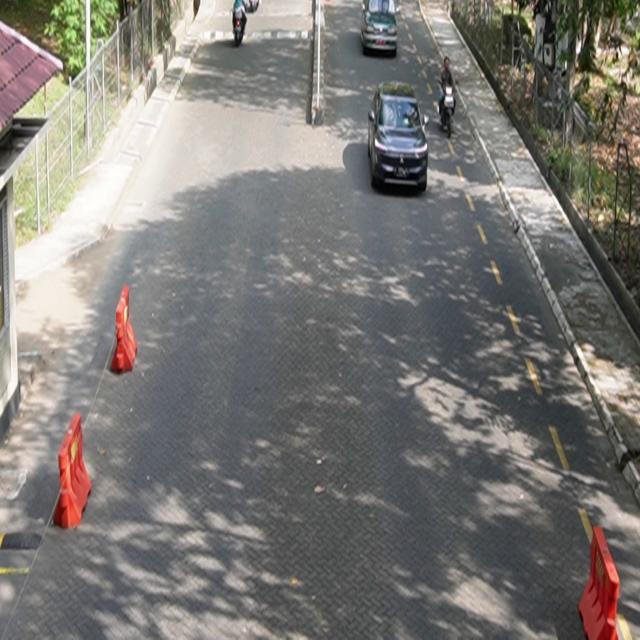car: (368, 80, 430, 193), (361, 1, 398, 57)
